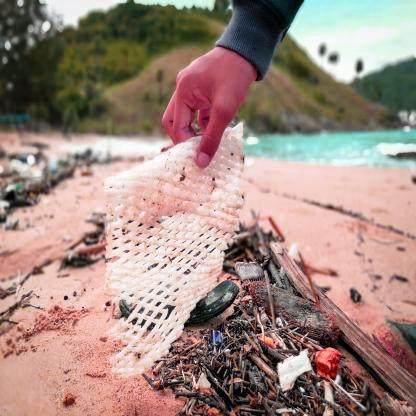Plastic: (102, 153, 242, 348)
